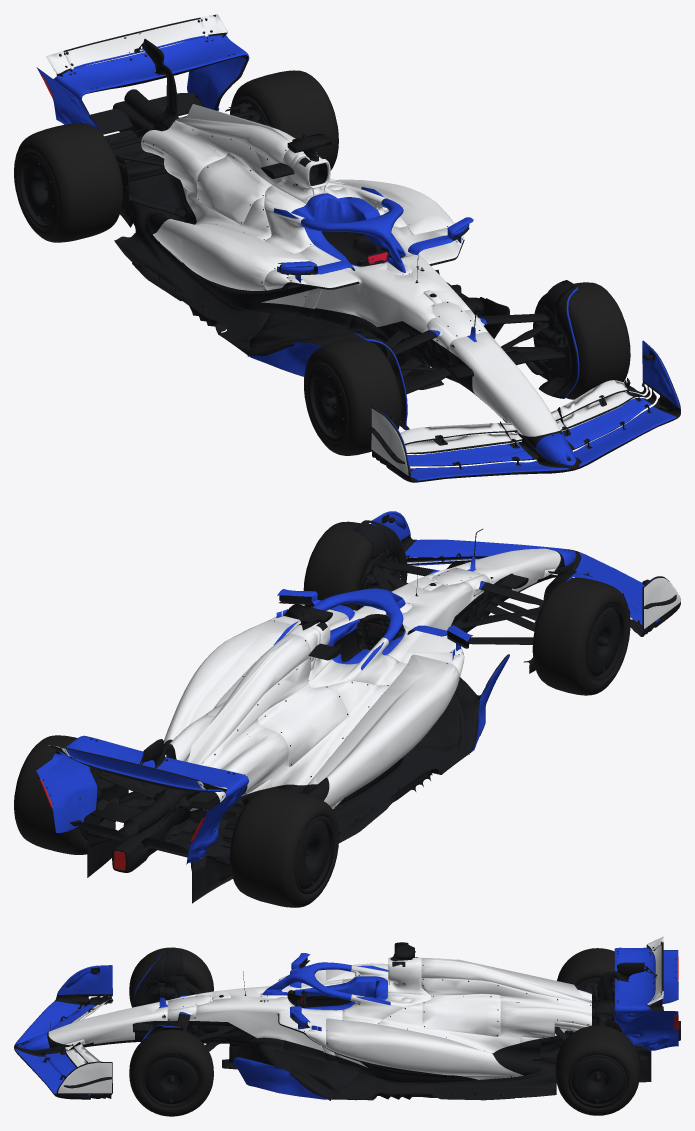
Rendered from 2025-racing-bulls.glb.
3 renders of one model, top to bottom at view 1: azimuth 30°, elevation 25°; view 2: azimuth 150°, elevation 25°; view 3: azimuth 270°, elevation 25°, orthographic. The views are drawn at different scales.
Visible parts, largest first — view 1: floor_damage_r_toro_rosso_detail_0; view 2: floor_damage_r_toro_rosso_detail_0, MIRRORR_mirror_0; view 3: floor_damage_r_toro_rosso_detail_0.
Part boxes in pixels (x1,y1,x2,y2): floor_damage_r_toro_rosso_detail_0: [14, 14, 680, 482]; floor_damage_r_toro_rosso_detail_0: [14, 511, 680, 907]; MIRRORR_mirror_0: [39, 595, 468, 870]; floor_damage_r_toro_rosso_detail_0: [14, 936, 680, 1116].
Bounding box in the file's own units: 0.0203 × 0.0116 × 0.0563.
Materials: 2 (2 with a texture image).
